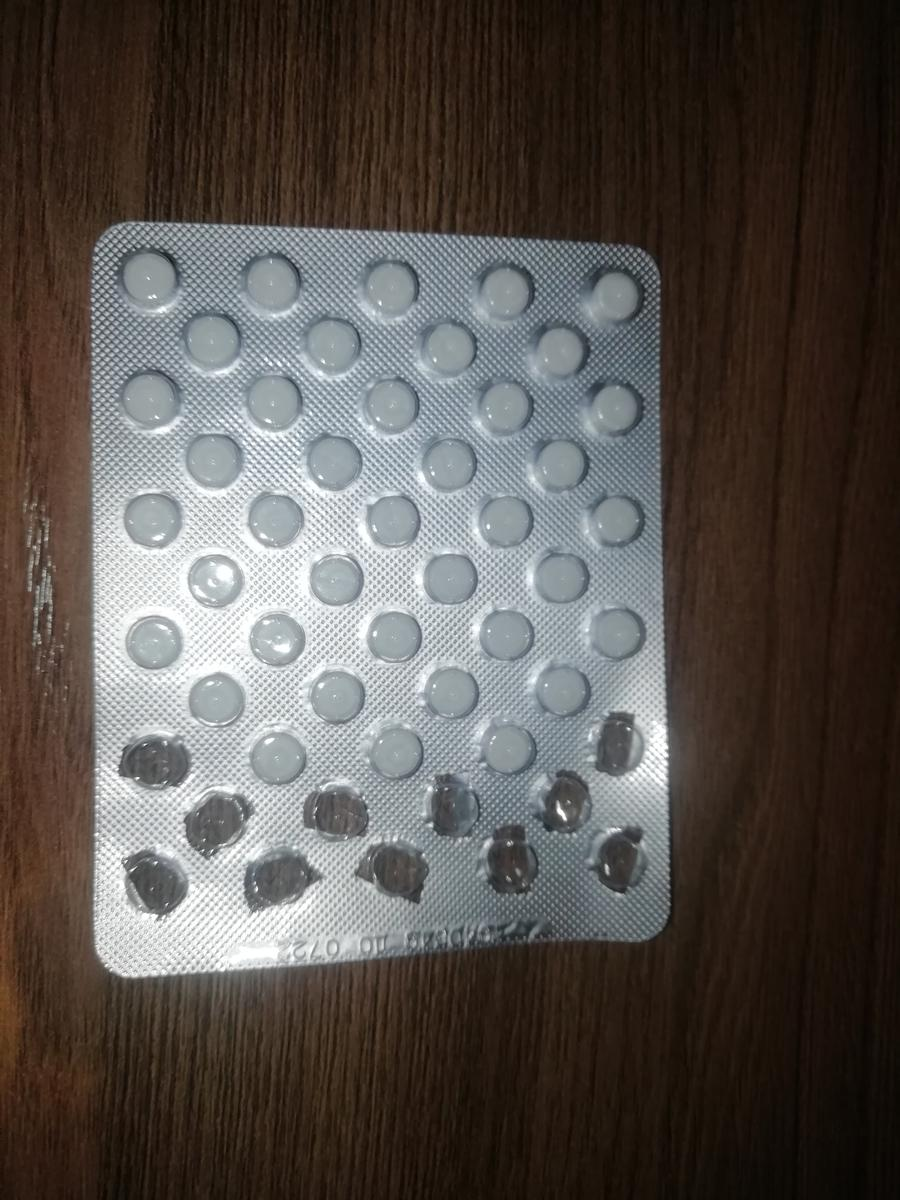tablet: (112, 245, 184, 308), (234, 253, 306, 316), (351, 257, 423, 320), (471, 256, 543, 319), (579, 265, 651, 328), (522, 317, 594, 380), (414, 319, 486, 382), (299, 314, 371, 377), (175, 309, 247, 372), (114, 368, 186, 431), (235, 370, 307, 433), (358, 374, 430, 437), (467, 375, 539, 438), (576, 379, 648, 442), (519, 429, 591, 492), (414, 437, 486, 500), (295, 427, 367, 490), (178, 425, 250, 488), (115, 486, 187, 549), (239, 485, 311, 548), (356, 492, 428, 555), (467, 488, 539, 551), (583, 489, 655, 552), (581, 487, 653, 550), (520, 543, 592, 606), (413, 546, 485, 609), (295, 547, 367, 610), (171, 552, 243, 615), (117, 611, 189, 674), (241, 611, 313, 674), (353, 603, 425, 666), (469, 604, 541, 667), (577, 600, 649, 663), (526, 660, 598, 723), (416, 662, 488, 725), (305, 662, 377, 725), (180, 669, 252, 732), (245, 725, 317, 788), (363, 724, 435, 787), (464, 717, 536, 780)
